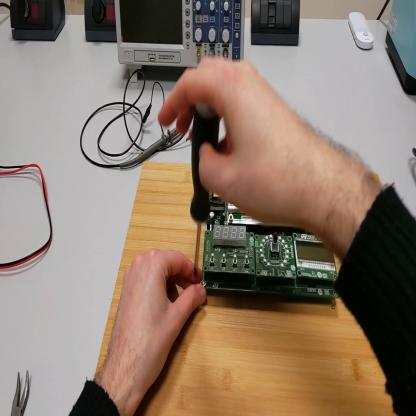hand: (155, 54, 310, 208), (98, 249, 208, 398)
low voltage board: (198, 205, 340, 305)
oscilloscope: (117, 1, 247, 87)
oscilloscope probe tip: (121, 131, 181, 168)
pliers: (12, 368, 32, 415)
screwdriver-: (193, 105, 221, 280)
socket: (11, 2, 67, 44), (85, 1, 118, 43)
welder station: (388, 1, 416, 93)
working area: (95, 156, 396, 415)
